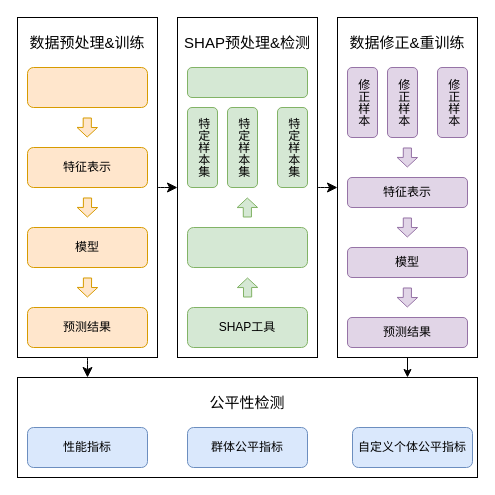
Some shapes in this 495 by 495 pixel diagram are drawn without their labels. The shapes that lost their labels are listed below. From the top down, each one's centre as x and y in pixels, then its label:
At (x=87, y=87): "训练集".
At (x=247, y=82): "歧视检测".
At (x=247, y=247): "Shapley 值".
